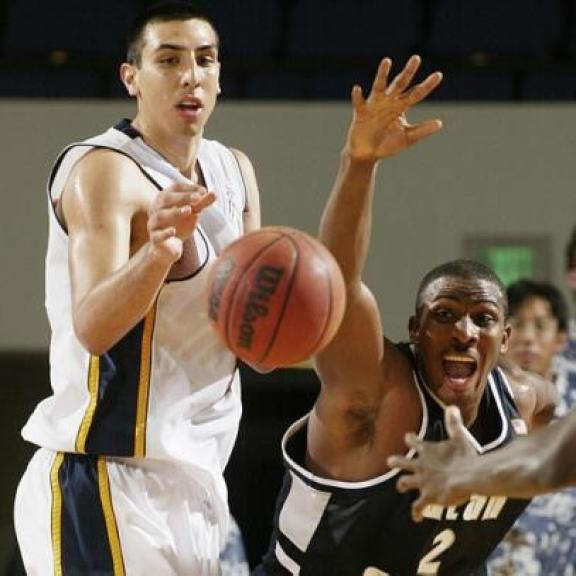face: (405, 284, 513, 412), (119, 32, 234, 143), (503, 294, 568, 372)
